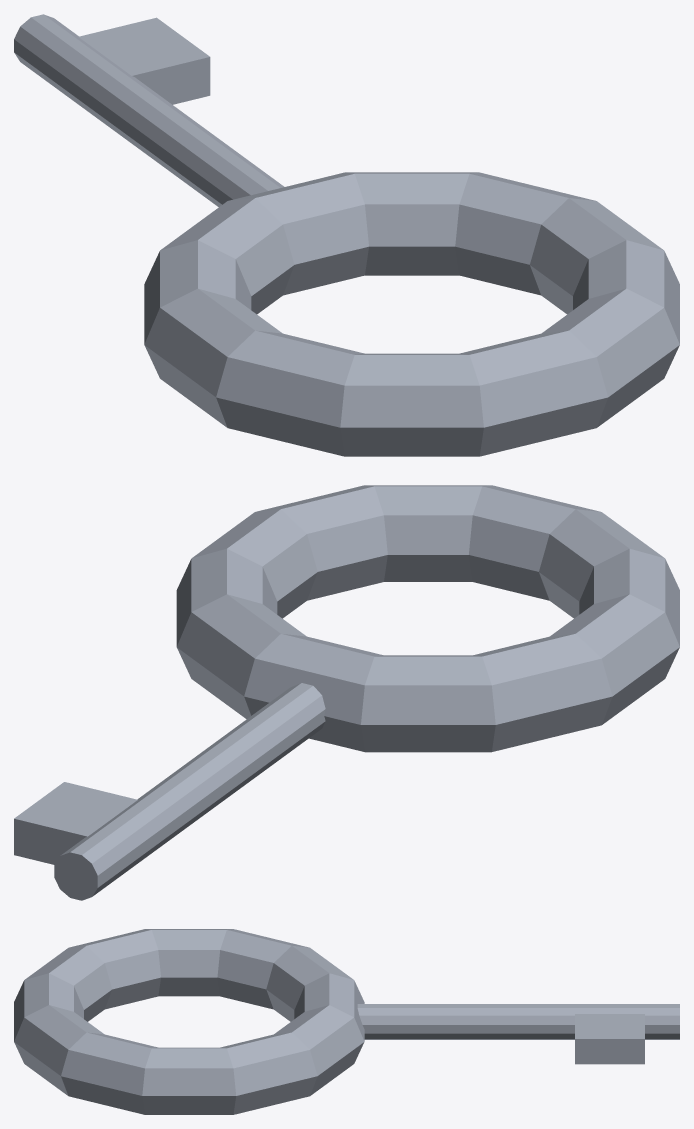
File: key.fbx
3 renders of one model, top to bottom at view 1: azimuth 30°, elevation 25°; view 2: azimuth 150°, elevation 25°; view 3: azimuth 270°, elevation 25°, orthographic. The views are drawn at different scales.
Parts seen in each view (by area): view 1: torus, cylinder, cube; view 2: torus, cylinder, cube; view 3: torus, cylinder, cube.
Boxes of the visible parts, <box> form: torus: <box>144,172,679,456</box>; cylinder: <box>14,14,284,206</box>; cube: <box>78,17,210,104</box>; torus: <box>176,485,679,752</box>; cylinder: <box>54,683,325,900</box>; cube: <box>14,782,137,864</box>; torus: <box>14,929,364,1114</box>; cylinder: <box>357,1004,679,1039</box>; cube: <box>575,1014,644,1064</box>.
Bounding box in the file's own units: 62.5 × 12.94 × 119.
Materials: 1 (1 with a texture image).
